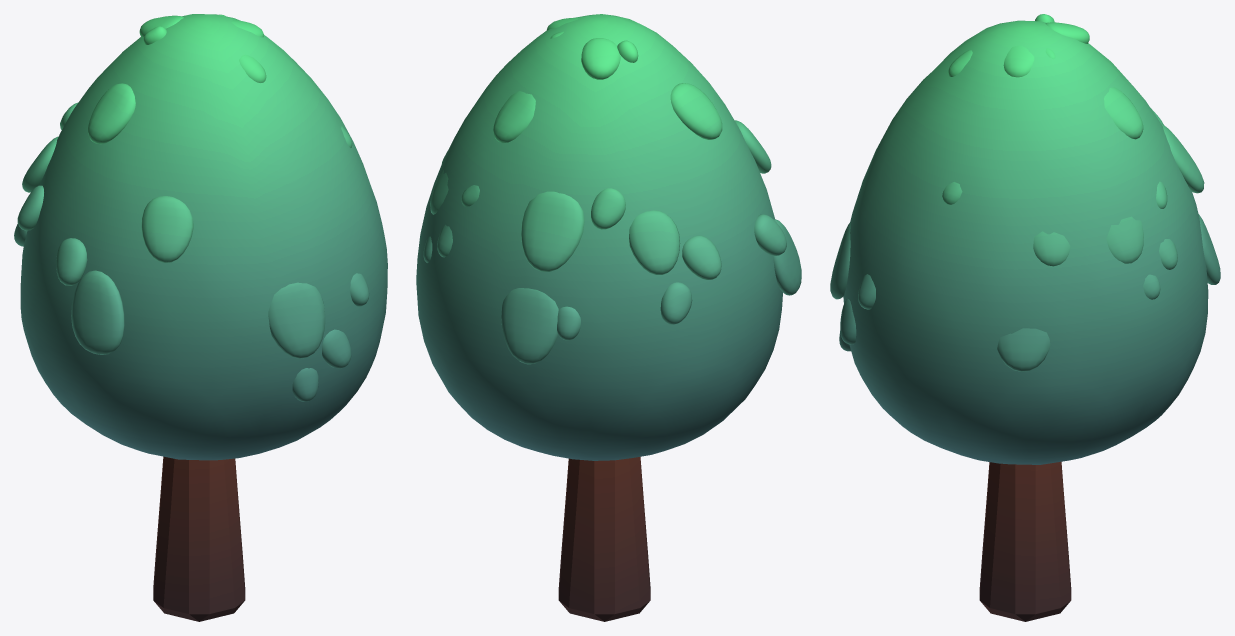
The model's file is tree1.fbx.
3 views of the same model, side by side, from view 1: azimuth 30°, elevation 25°; view 2: azimuth 150°, elevation 25°; view 3: azimuth 270°, elevation 25° (orthographic).
Visible parts, largest first — view 1: Plane.009; view 2: Plane.009; view 3: Plane.009.
Part boxes in pixels (x1,y1,x2,y2): Plane.009: (14,14,387,621); Plane.009: (416,14,801,621); Plane.009: (830,14,1220,621).
Bounding box in the file's own units: 1.61 × 2.71 × 1.66.
